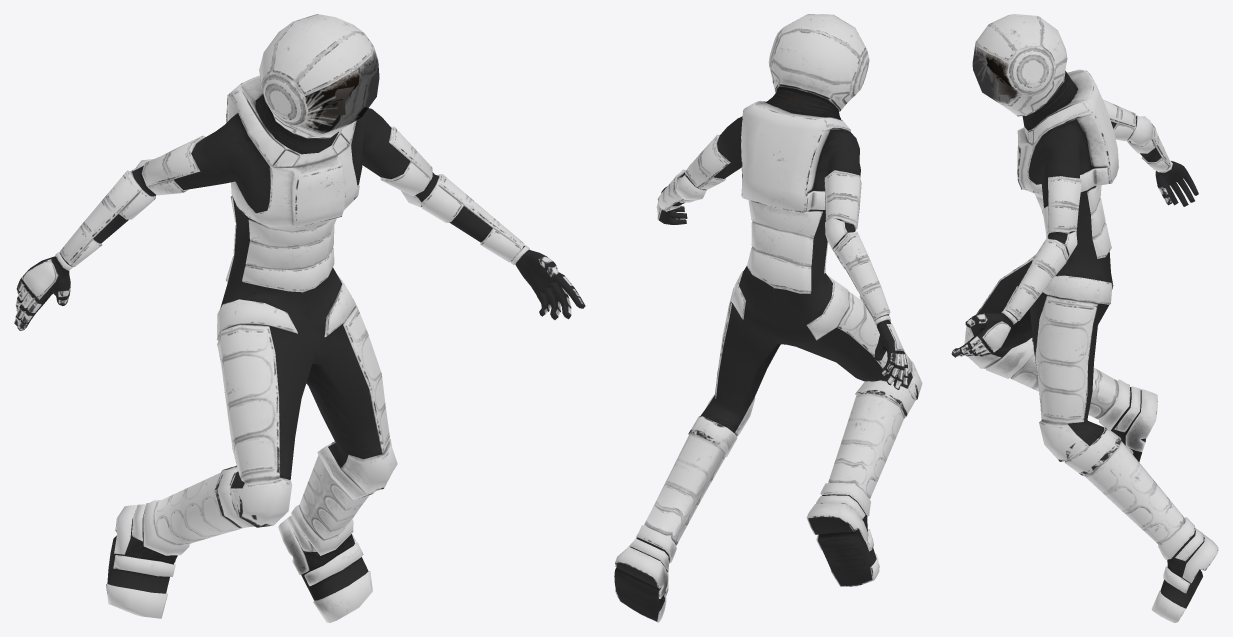
The model's file is astronaut-transformed.glb.
3 views of the same model, side by side, from view 1: azimuth 30°, elevation 25°; view 2: azimuth 150°, elevation 25°; view 3: azimuth 270°, elevation 25° (orthographic). The views are drawn at different scales.
Visible parts, largest first — view 1: Object_3, Object_4; view 2: Object_3; view 3: Object_3, Object_4.
Part boxes in pixels (bbox=[...]): Object_3: bbox=[14, 14, 585, 622]; Object_4: bbox=[305, 68, 359, 128]; Object_3: bbox=[614, 14, 922, 622]; Object_3: bbox=[951, 14, 1218, 622]; Object_4: bbox=[986, 53, 1071, 92].
Size of the model in its own units: 1.8 by 2.79 by 1.2.
3 materials, 2 textured.
